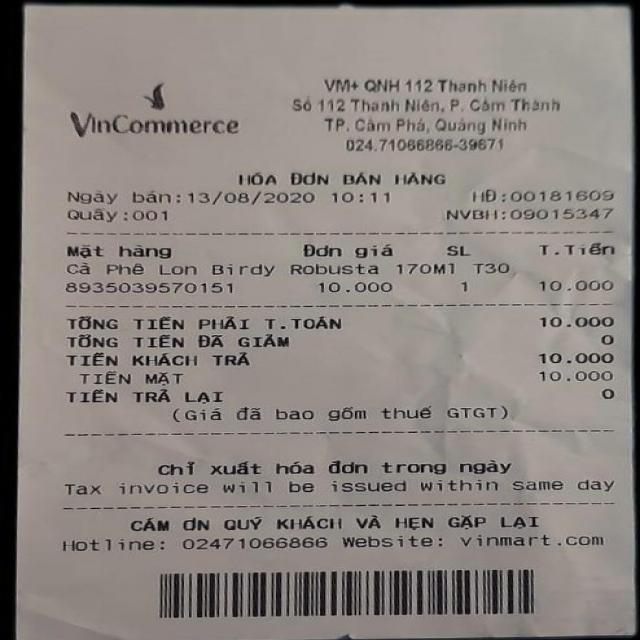Date: (184, 186, 320, 207)
Store_Name: (48, 80, 259, 142)
Total_Amount: (50, 302, 618, 335)
